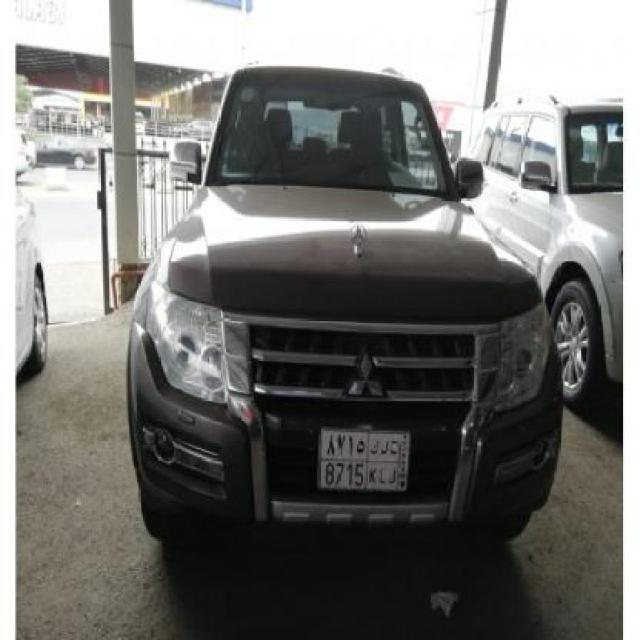license_plate: (316, 426, 412, 496)
